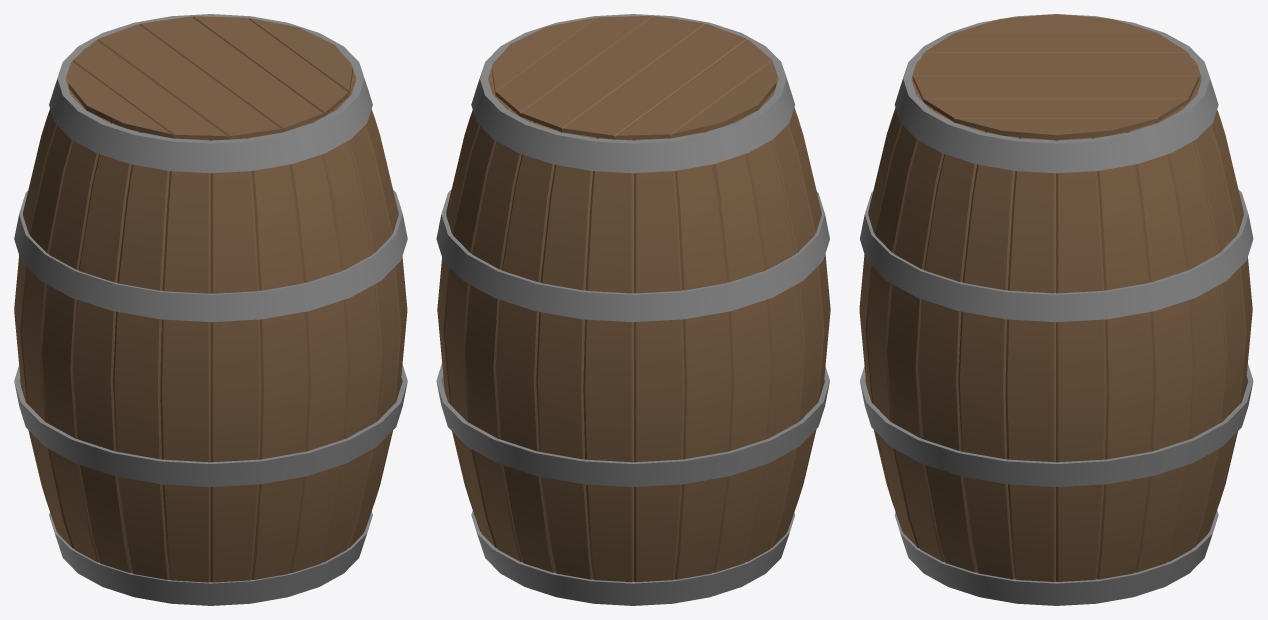
File: HMC_Barrel.fbx
3 views of the same model, side by side, from view 1: azimuth 30°, elevation 25°; view 2: azimuth 150°, elevation 25°; view 3: azimuth 270°, elevation 25° (orthographic).
Visible parts, largest first — view 1: Cylinder; view 2: Cylinder; view 3: Cylinder.
Part boxes in pixels (left/top/right/bottom): Cylinder: left=14, top=14, right=407, bottom=605; Cylinder: left=436, top=14, right=830, bottom=605; Cylinder: left=859, top=14, right=1253, bottom=605.
Bounding box in the file's own units: 190 × 248 × 190.
